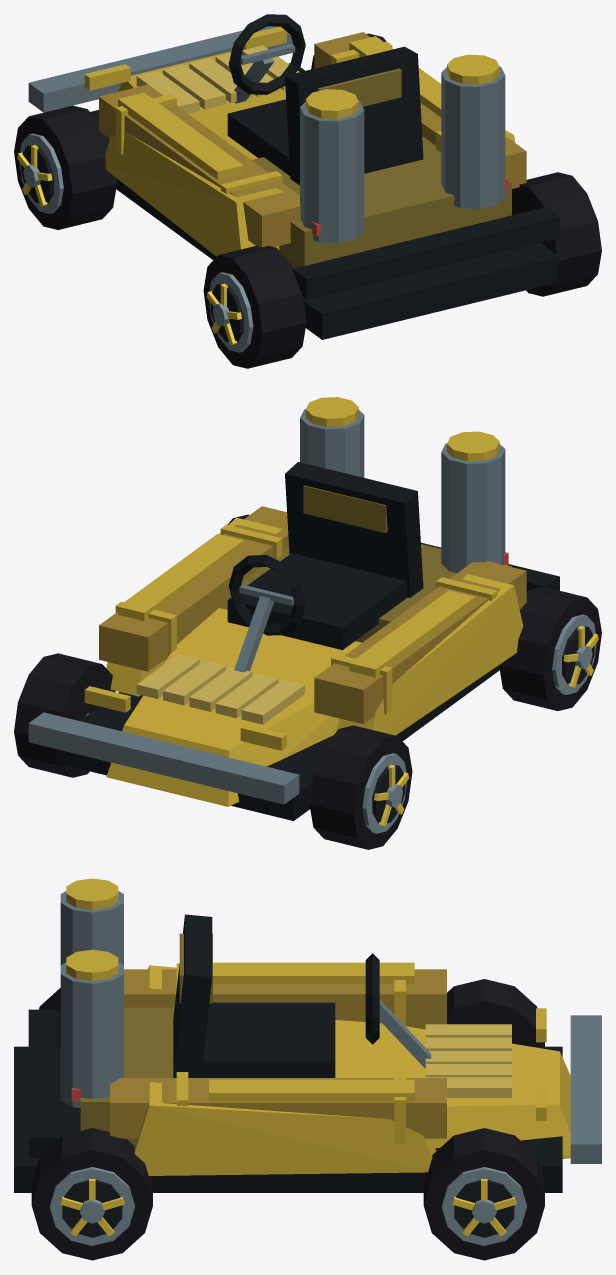
The model's file is kart.glb.
3 views of the same model, one above another, from view 1: azimuth 30°, elevation 25°; view 2: azimuth 150°, elevation 25°; view 3: azimuth 270°, elevation 25° (orthographic). The views are drawn at different scales.
Visible parts, largest first — view 1: chassis, wheel-rear-left, wheel-front-left, wheel-rear-right; view 2: chassis, wheel-front-left, wheel-rear-left, wheel-front-right; view 3: chassis, wheel-front-right, wheel-rear-right, wheel-front-left.
Boxes of the visible parts, x1,y1,x2,y2 form: chassis: [28, 14, 559, 339]; wheel-rear-left: [203, 246, 306, 368]; wheel-front-left: [14, 105, 116, 229]; wheel-rear-right: [512, 172, 601, 296]; chassis: [28, 397, 559, 820]; wheel-front-left: [309, 725, 412, 849]; wheel-rear-left: [499, 586, 601, 710]; wheel-front-right: [14, 653, 115, 777]; chassis: [14, 878, 601, 1192]; wheel-front-right: [423, 1128, 544, 1260]; wheel-rear-right: [31, 1128, 152, 1260]; wheel-front-left: [447, 979, 544, 1046].
Size of the model in its own units: 2.24 by 1.4 by 3.
